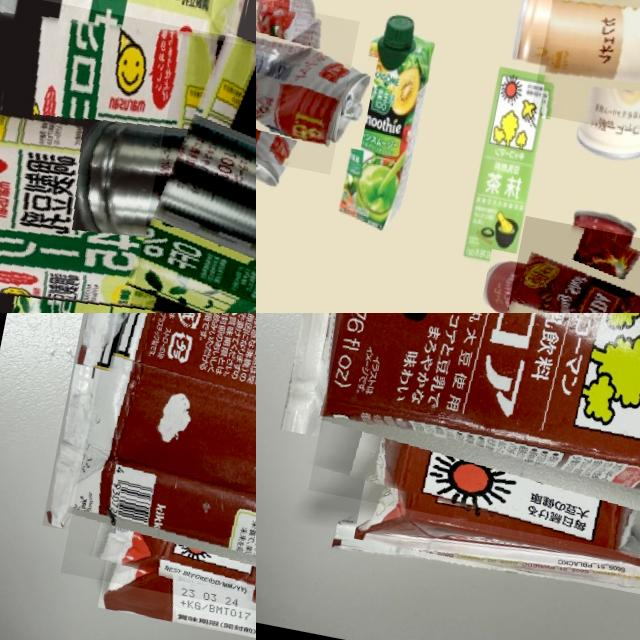Aluminium Foil: (308, 313, 640, 568), (0, 0, 256, 313), (60, 313, 256, 640), (0, 0, 126, 313), (336, 7, 442, 233), (455, 60, 558, 278)
Can: (124, 33, 256, 313), (256, 0, 359, 174), (530, 0, 640, 145), (497, 216, 640, 313)
